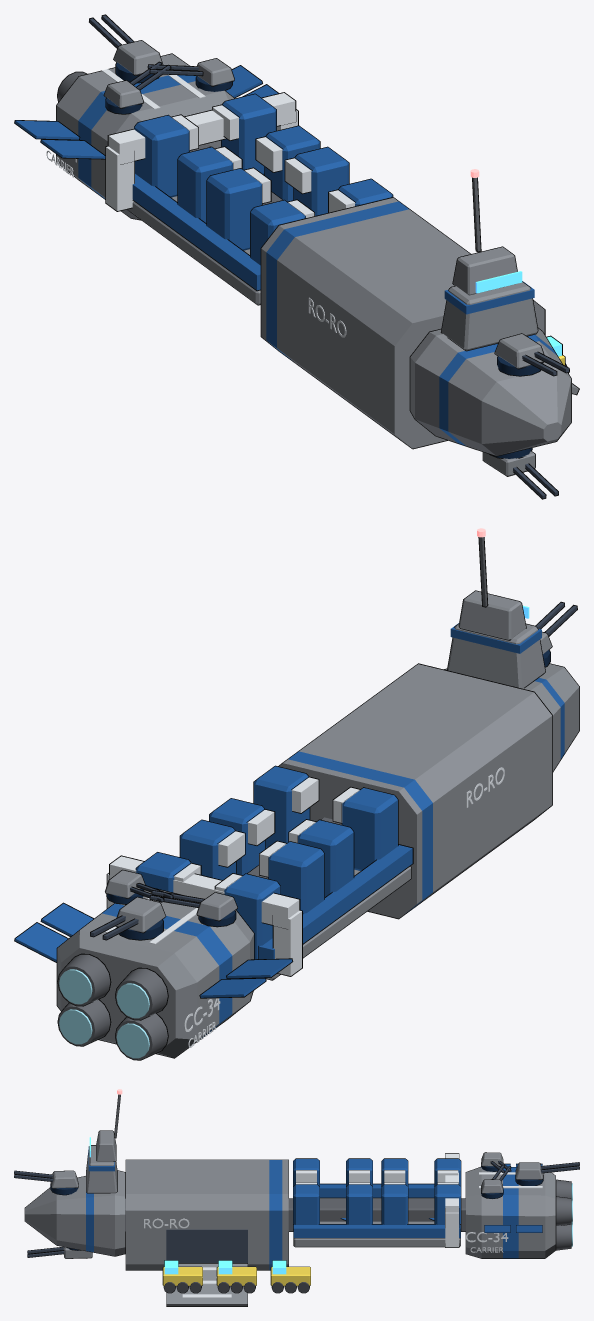
Rendered from Cargo_Cruiser_Carrier.fbx.
3 renders of one model, top to bottom at view 1: azimuth 30°, elevation 25°; view 2: azimuth 150°, elevation 25°; view 3: azimuth 270°, elevation 25°, orthographic. The views are drawn at different scales.
Parts seen in each view (by area): view 1: RoRo_Hangar, Bow.003, Engine.003, Bridge_A.003, Cradle_Rail-, Clamp0-10.3, Clamp1-10.3, Cradle_Arch, Clamp1-1-0.3, Clamp110.3, Clamp010.3, Bridge_B.003 (+16 smaller); view 2: RoRo_Hangar, Engine.003, Bridge_A.003, Cradle_Rail-, Clamp0-1-0.3, Clamp1-1-0.3, Bow.003, Clamp01-0.3, Clamp0-10.3, Bridge_B.003, Cradle_Arch, Clamp11-0.3 (+24 smaller); view 3: RoRo_Hangar, Engine.003, Bow.003, RoRo_Opening, Cradle_Rail+, Spine.003, Cradle_Deck, RoRo_Ramp, Clamp11-0.3, Clamp01-0.3, Clamp010.3, Bridge_A.003 (+17 smaller).
Part boxes in pixels (box(x1,y1,x2,y2)): RoRo_Hangar: box(260, 197, 545, 449); Bow.003: box(409, 327, 571, 456); Engine.003: box(56, 53, 234, 220); Bridge_A.003: box(440, 281, 538, 351); Cradle_Rail-: box(132, 174, 260, 291); Clamp0-10.3: box(206, 168, 262, 250); Clamp1-10.3: box(134, 114, 189, 197); Cradle_Arch: box(107, 92, 296, 164); Clamp1-1-0.3: box(177, 146, 233, 222); Clamp110.3: box(221, 93, 276, 174); Clamp010.3: box(293, 146, 349, 215); Bridge_B.003: box(452, 246, 517, 295); RoRo_Hangar: box(278, 663, 552, 919); Engine.003: box(56, 888, 254, 1058); Bridge_A.003: box(447, 623, 545, 688); Cradle_Rail-: box(258, 844, 413, 959); Clamp0-1-0.3: box(341, 787, 398, 870); Clamp1-1-0.3: box(268, 841, 324, 913); Bow.003: box(444, 663, 579, 772); Clamp01-0.3: box(253, 765, 310, 847); Clamp0-10.3: box(297, 819, 354, 896); Bridge_B.003: box(458, 590, 526, 640); Cradle_Arch: box(109, 855, 300, 929); Clamp11-0.3: box(179, 819, 236, 879); RoRo_Hangar: box(125, 1159, 288, 1270); Engine.003: box(465, 1167, 555, 1258); Bow.003: box(24, 1170, 125, 1256); RoRo_Opening: box(166, 1229, 247, 1264); Cradle_Rail+: box(293, 1224, 460, 1238); Spine.003: box(125, 1198, 465, 1231); Cradle_Deck: box(293, 1198, 460, 1247); RoRo_Ramp: box(166, 1263, 247, 1306); Clamp11-0.3: box(381, 1184, 408, 1224); Clamp01-0.3: box(293, 1184, 319, 1231); Clamp010.3: box(346, 1184, 372, 1224); Bridge_A.003: box(86, 1145, 117, 1193).
Bounding box in the file's own units: 61.96 × 66.07 × 194.
